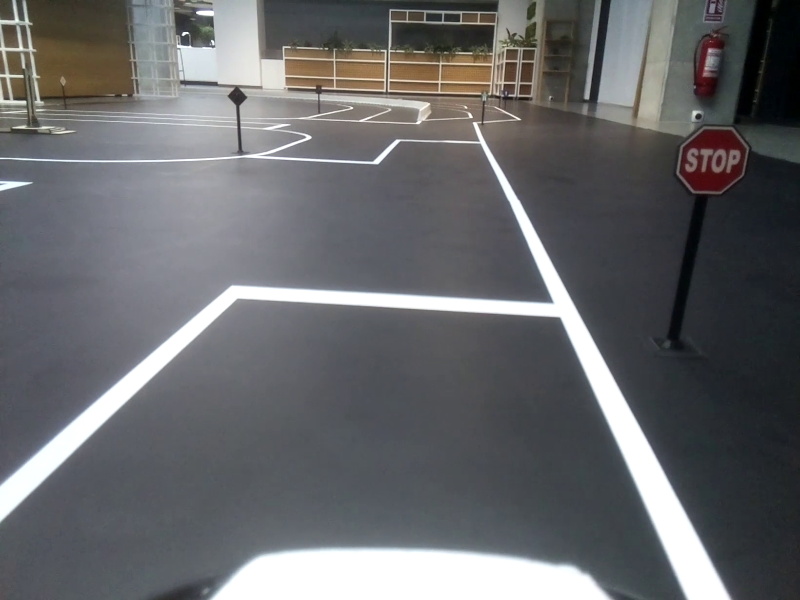stop: (675, 130, 747, 197)
